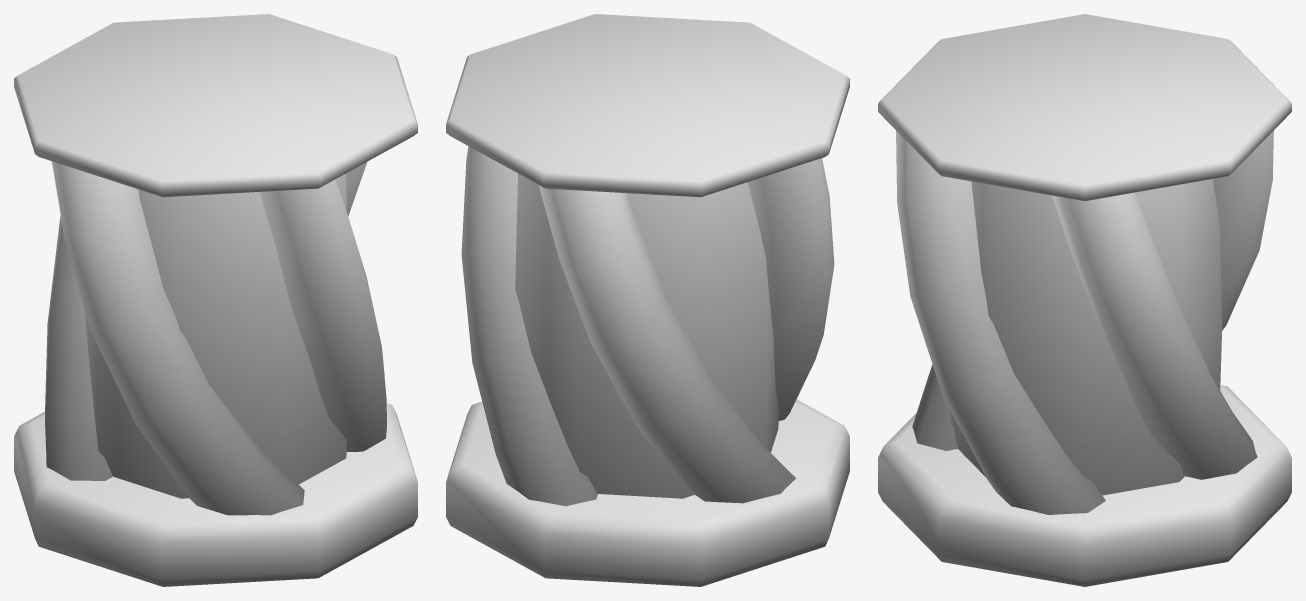
Rendered from stone_grip_051.glb.
3 views of the same model, side by side, from view 1: azimuth 30°, elevation 25°; view 2: azimuth 150°, elevation 25°; view 3: azimuth 270°, elevation 25° (orthographic).
Parts seen in each view (by area): view 1: stone_grip.051; view 2: stone_grip.051; view 3: stone_grip.051.
Boxes of the visible parts, x1,y1,x2,y2 form: stone_grip.051: (14, 14, 417, 586); stone_grip.051: (446, 14, 849, 586); stone_grip.051: (878, 14, 1291, 586).
Bounding box in the file's own units: 2.89 × 3.13 × 2.89.
1 material, 1 textured.
